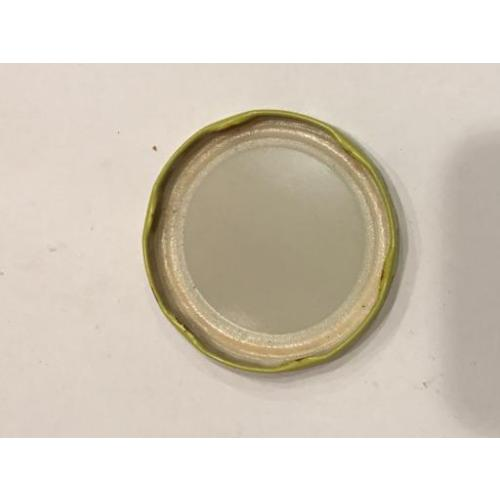metal: (140, 108, 401, 375)
